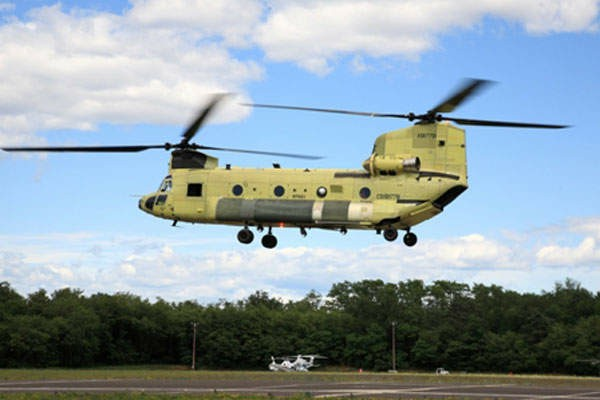chinook: (78, 105, 519, 253)
